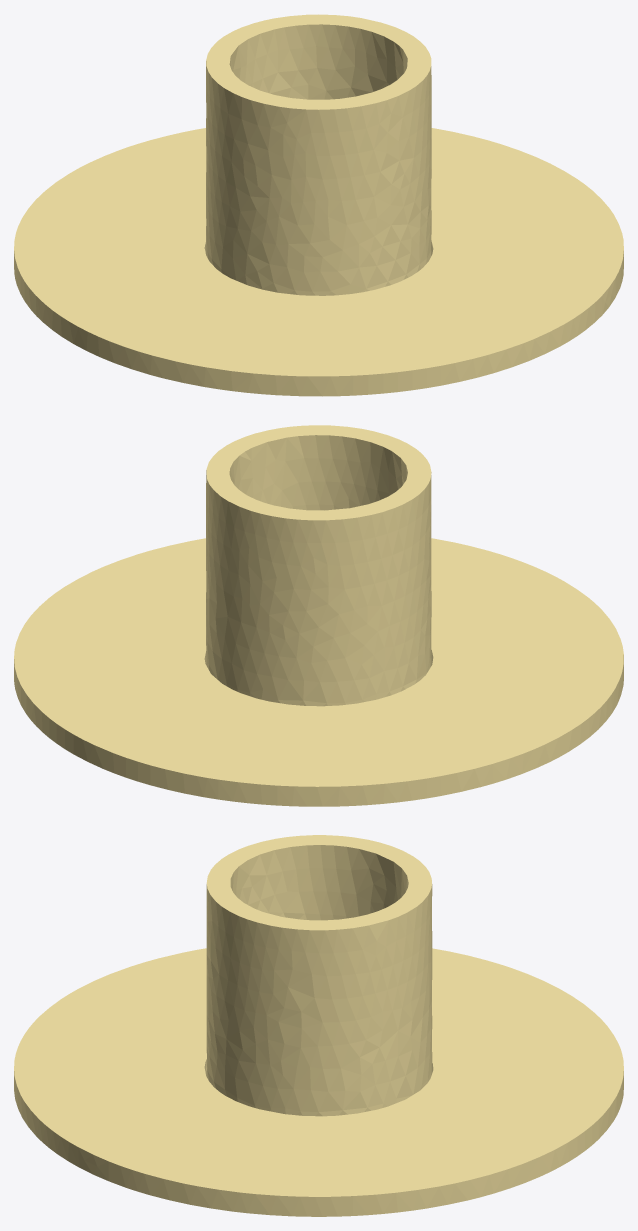
Rendered from input.gltf.
3 renders of one model, top to bottom at view 1: azimuth 30°, elevation 25°; view 2: azimuth 150°, elevation 25°; view 3: azimuth 270°, elevation 25°, orthographic.
Parts seen in each view (by area): view 1: Renderer Node; view 2: Renderer Node; view 3: Renderer Node.
Part boxes in pixels (x1,y1,x2,y2): Renderer Node: (14,14,623,396); Renderer Node: (14,425,623,806); Renderer Node: (14,835,623,1216).
Size of the model in its own units: 1.52 by 0.5625 by 1.52.
